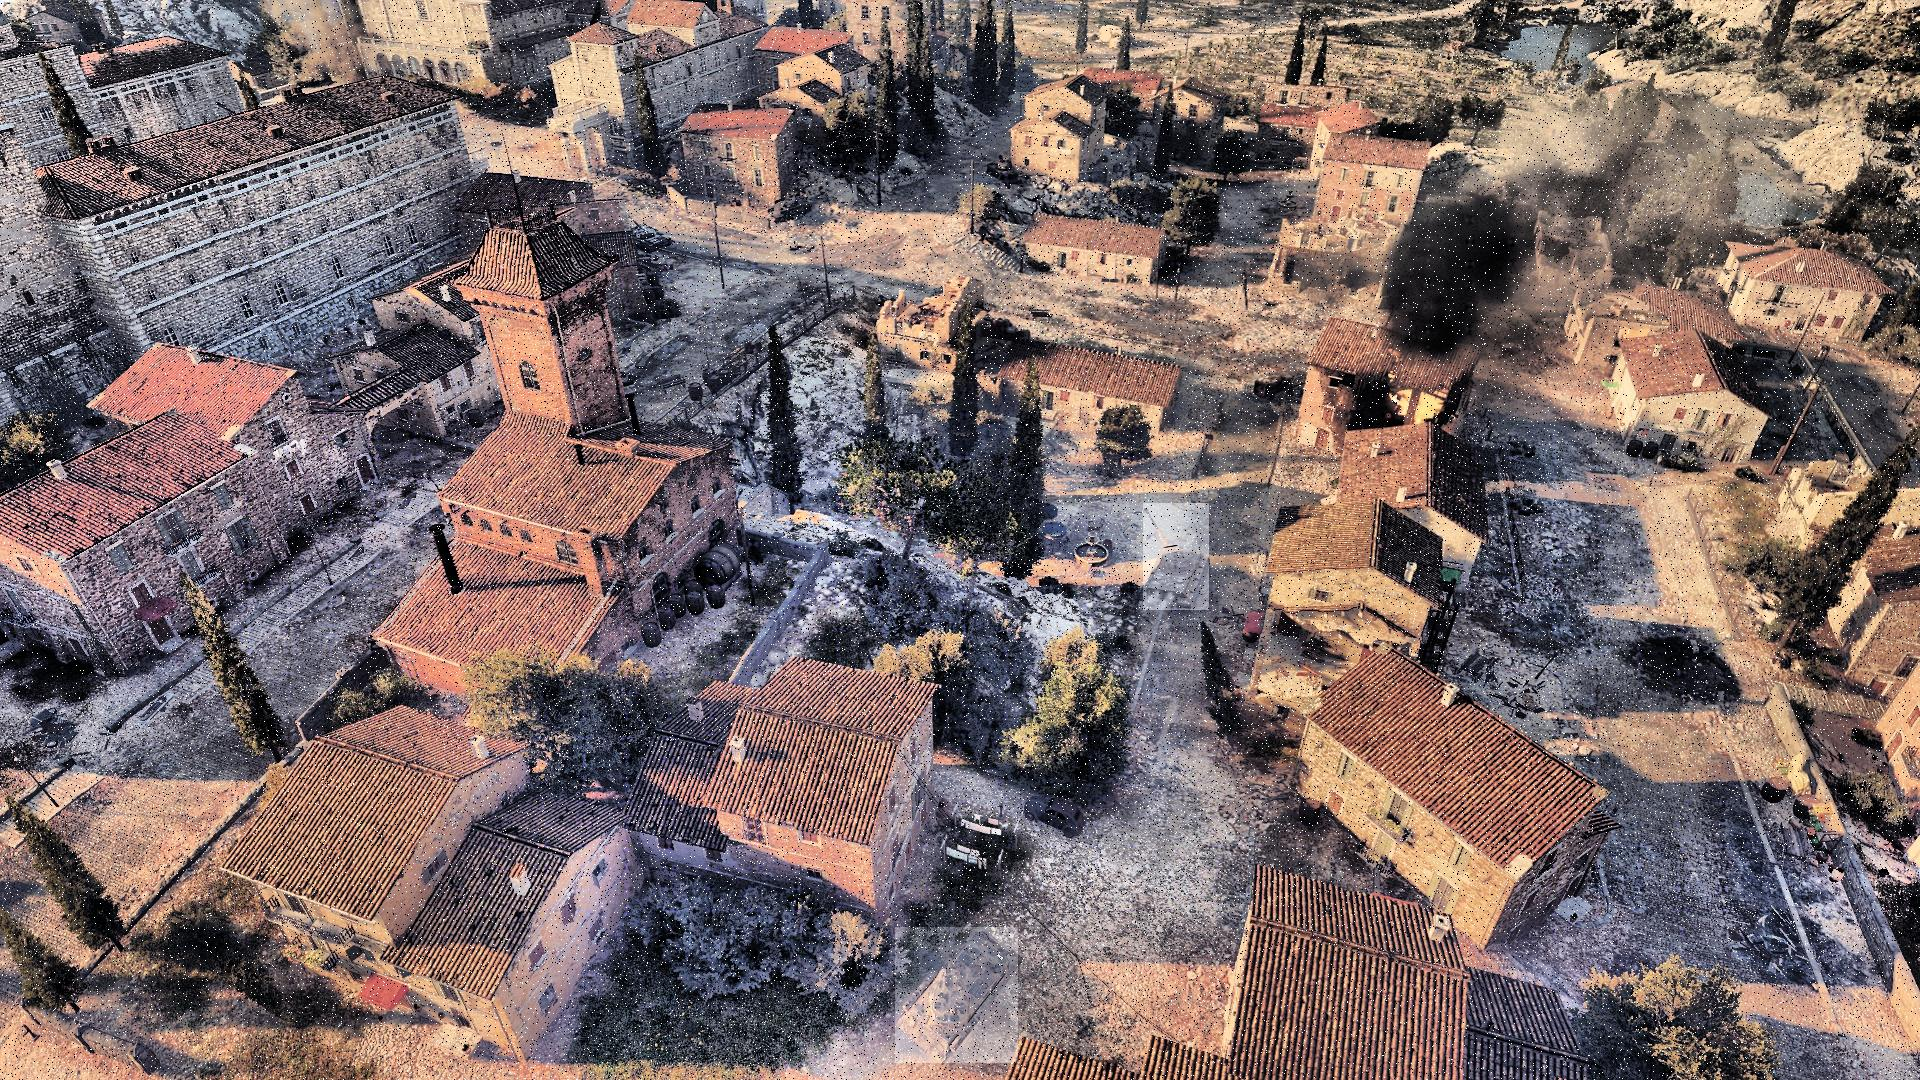military-vehicle: (895, 927, 1018, 1063), (1143, 504, 1209, 611)
